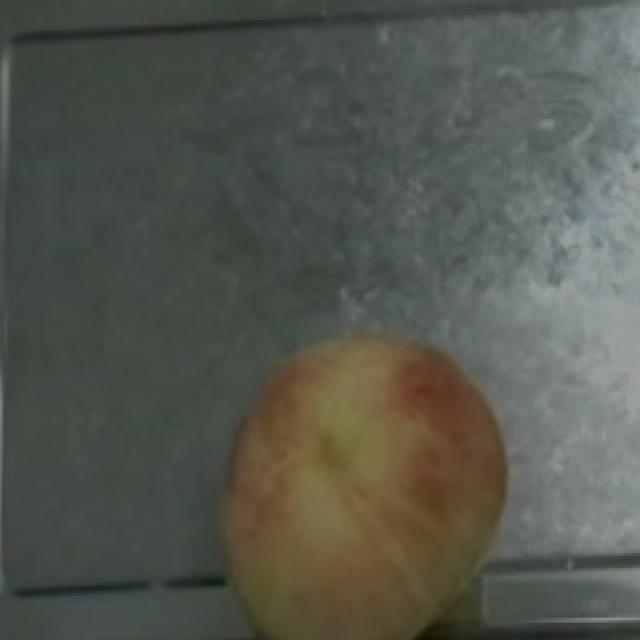Fruit: (202, 312, 528, 638)
